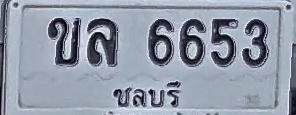3: (242, 18, 268, 66)
5: (211, 18, 238, 66)
6: (180, 18, 205, 66), (149, 18, 174, 66)
A02: (48, 16, 81, 66)
A36: (87, 18, 118, 66)
CBI: (102, 80, 184, 111)
